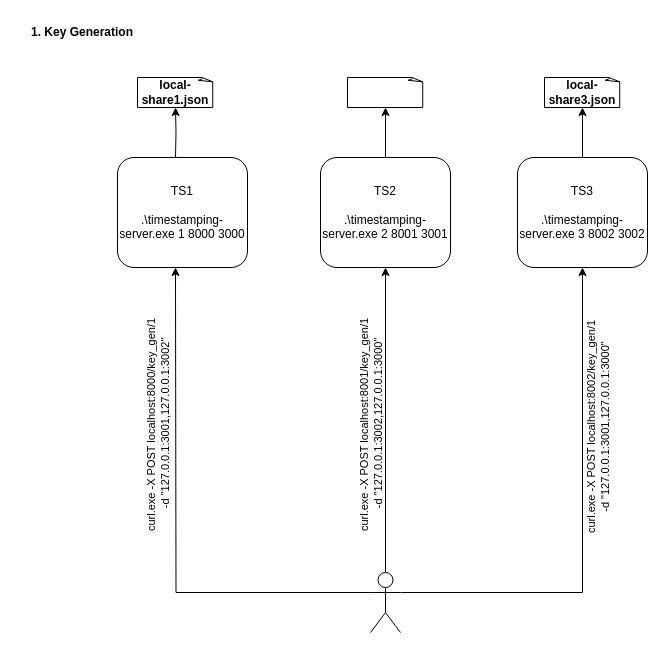
Some shapes in this 665 by 670 pixel diagram are drawn without their labels. The box of each missing label's shape, as (x1, y1, x2, y2) in pixels:
Administrator: (370, 572, 400, 632)
local-share2.json: (346, 76, 424, 108)
